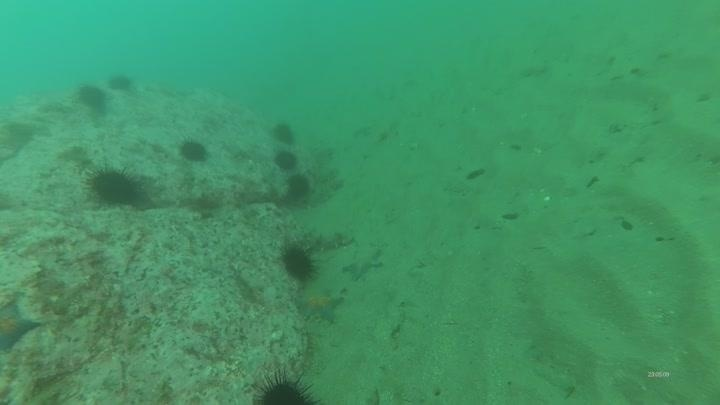echinus: (85, 164, 145, 209), (251, 372, 320, 405), (279, 242, 318, 283), (75, 82, 109, 113), (177, 136, 210, 165), (283, 172, 313, 203), (270, 120, 298, 146), (106, 71, 135, 94), (273, 148, 299, 172)
holothurian: (302, 227, 356, 254)
starfish: (0, 296, 43, 354), (295, 285, 345, 324), (341, 245, 385, 282)
